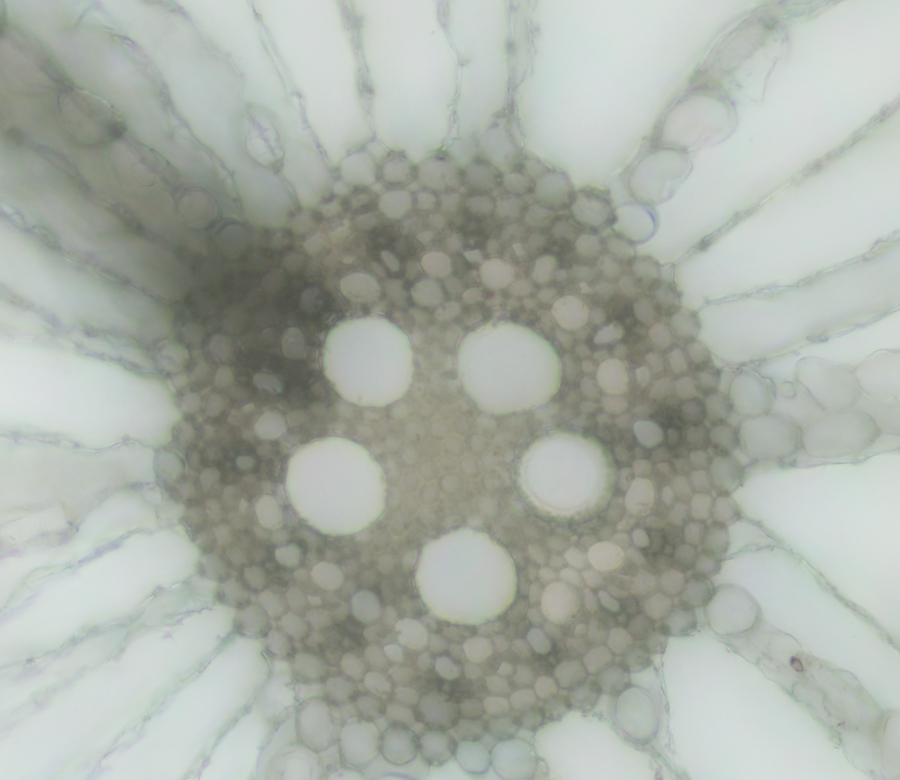lm: (413, 525, 518, 625), (454, 320, 562, 416), (286, 434, 387, 535), (516, 429, 617, 521), (321, 316, 414, 407)
